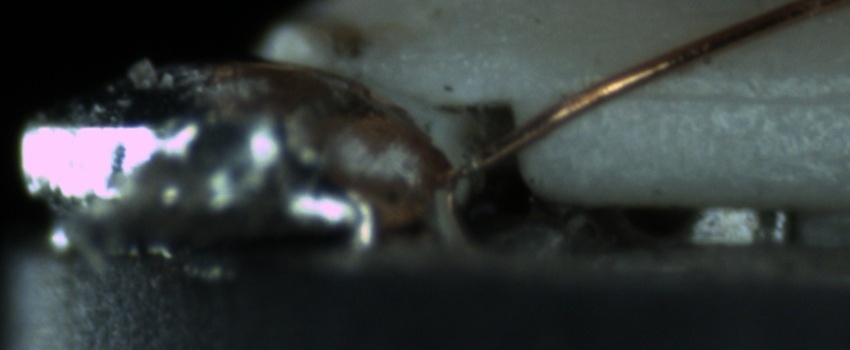DL: (615, 62, 844, 130)
